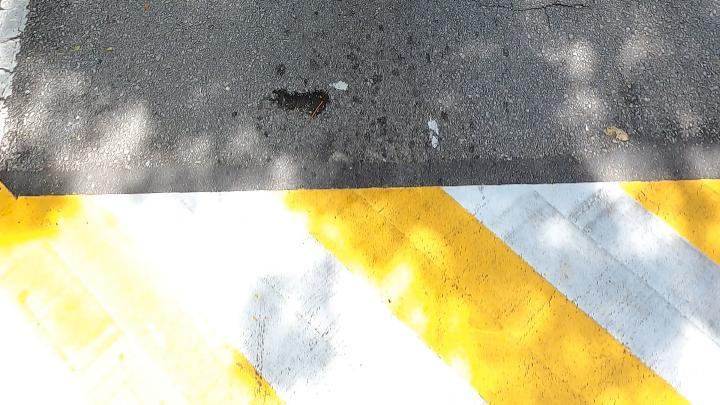Lane: (0, 179, 719, 404), (0, 182, 720, 405)
